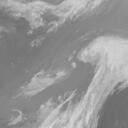cyclone: (77, 34, 127, 82)
